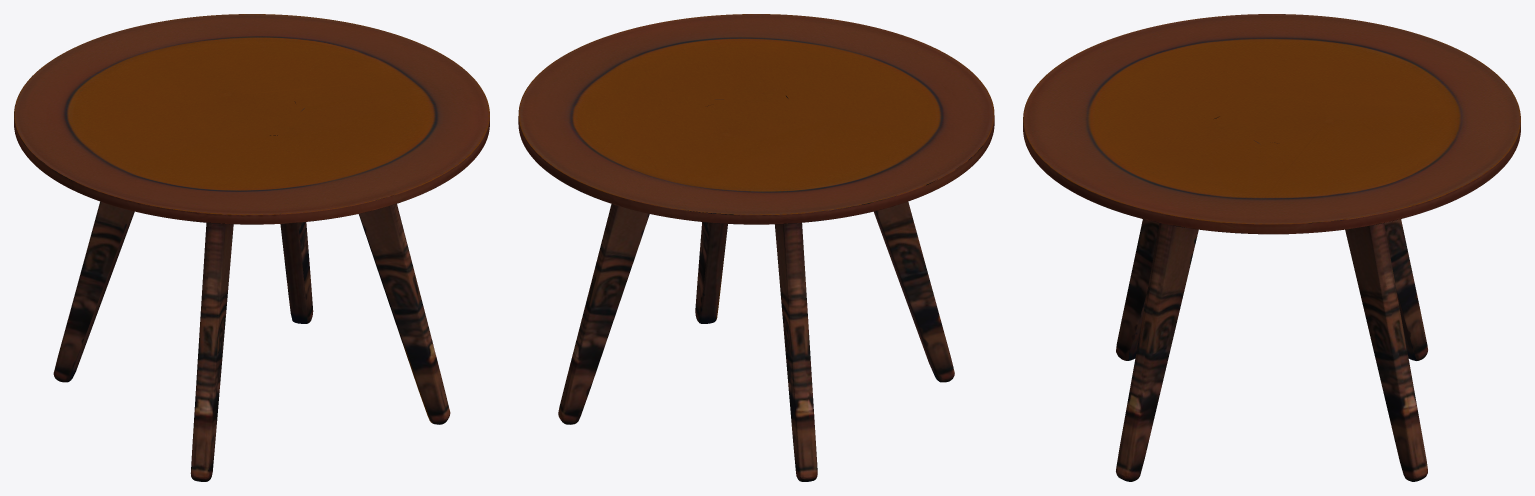
File: edited_mesh.glb
3 renders of one model, left to right at view 1: azimuth 30°, elevation 25°; view 2: azimuth 150°, elevation 25°; view 3: azimuth 270°, elevation 25°, orthographic. The views are drawn at different scales.
Visible parts, largest first — view 1: solid_001_wire; view 2: solid_001_wire; view 3: solid_001_wire.
Boxes of the visible parts, <box> form: solid_001_wire: <box>14,14,489,481</box>; solid_001_wire: <box>518,14,994,481</box>; solid_001_wire: <box>1023,14,1520,481</box>.
Bounding box in the file's own units: 1.72 × 1.14 × 1.72.
Materials: 1 (1 with a texture image).
